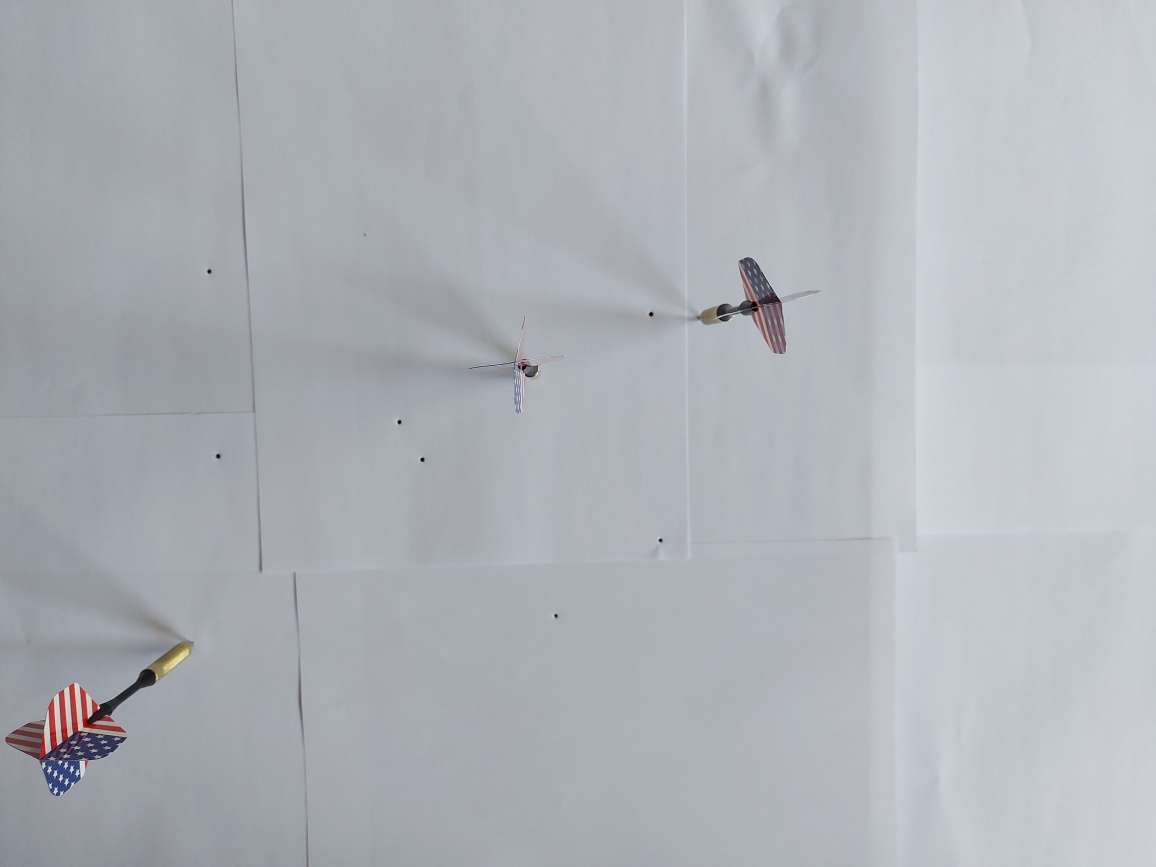Dart: (6, 631, 205, 799), (687, 249, 828, 370), (457, 305, 579, 426)
